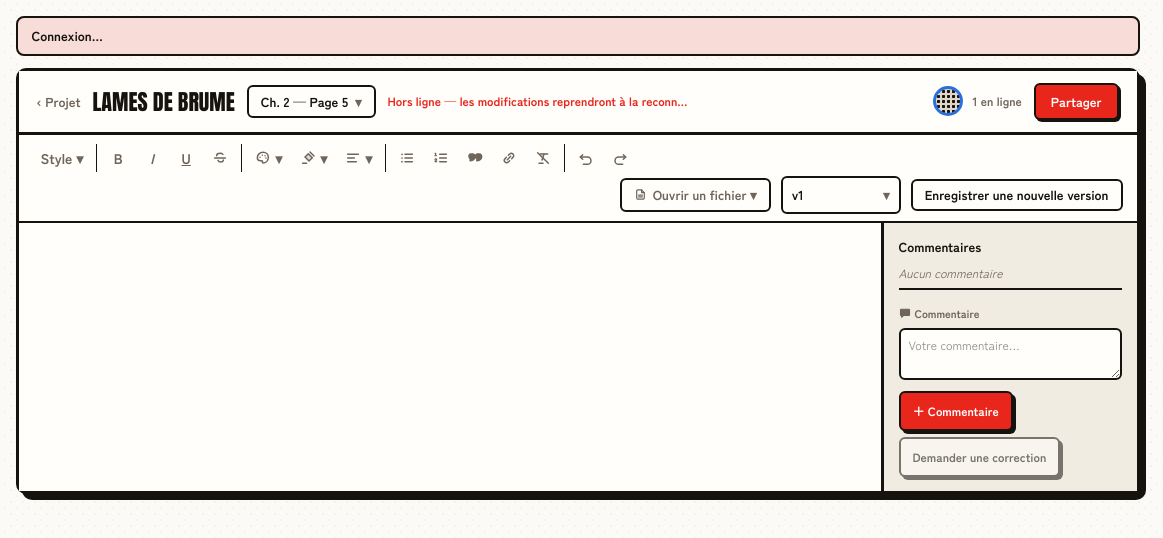
Test: EditorClient (Éditeur shell) › rejects an empty comment
The image size is (1163, 538).
Check: the text "Lames de Brume" is shown, box [93, 85, 235, 118]
Commenting lives ONLY in the sidebar composer (the toolbar "＋ Commentaire" was removed in b8e1e9e).
Step 1. Click the button "＋ Commentaire" → {"x": 956, "y": 411}, box [898, 391, 1013, 431]
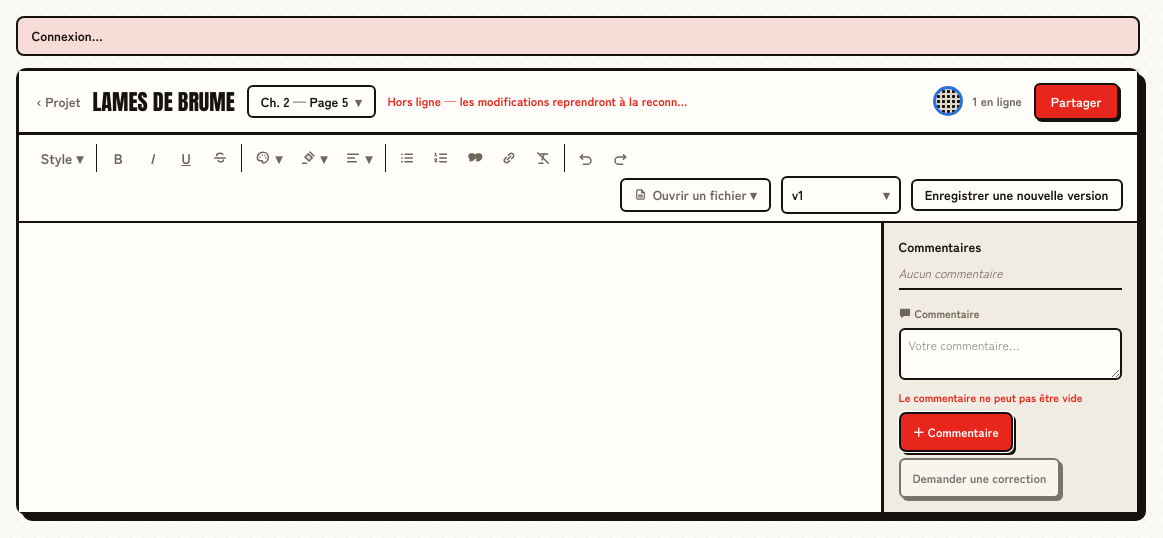
Check: the text "Le commentaire ne peut pas être vide" is shown, box [898, 389, 1083, 405]
